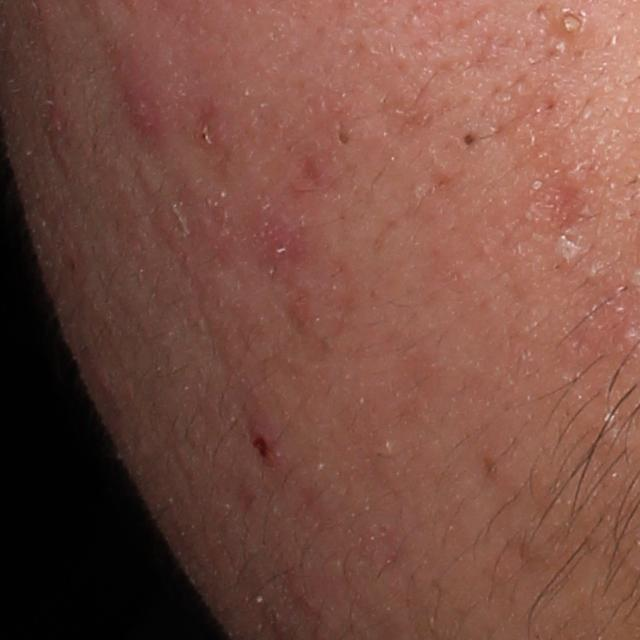comedo: (330, 121, 360, 152), (461, 132, 480, 150)
papule: (105, 58, 182, 150), (242, 415, 291, 475)
